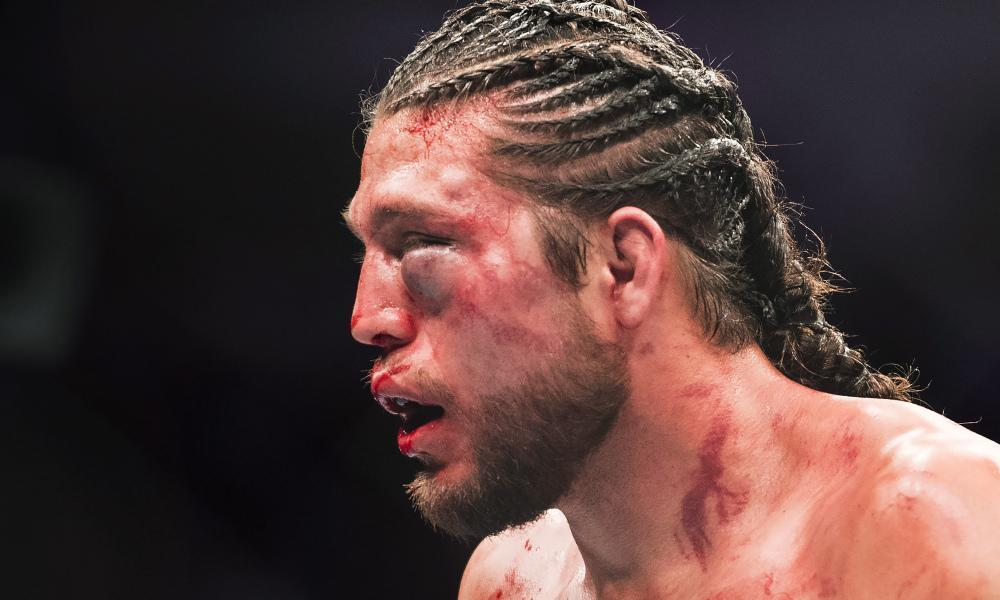Fire: (347, 102, 485, 456), (648, 410, 749, 600), (479, 531, 549, 600), (760, 568, 805, 600)
